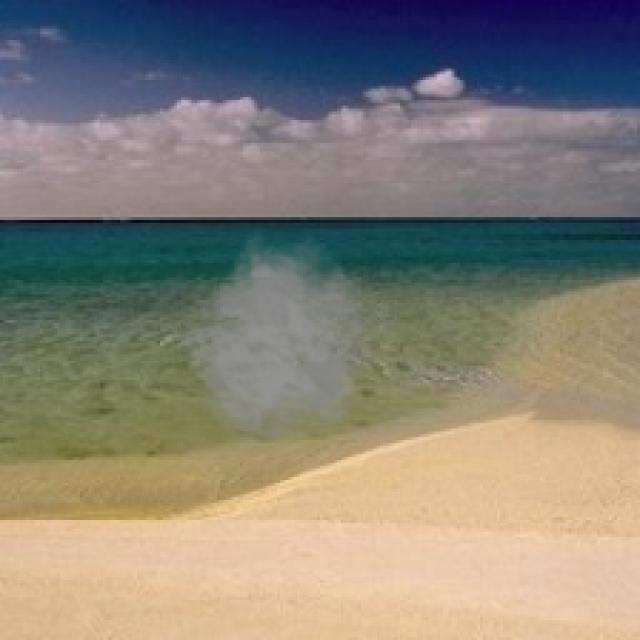smoke: (183, 228, 391, 452)
